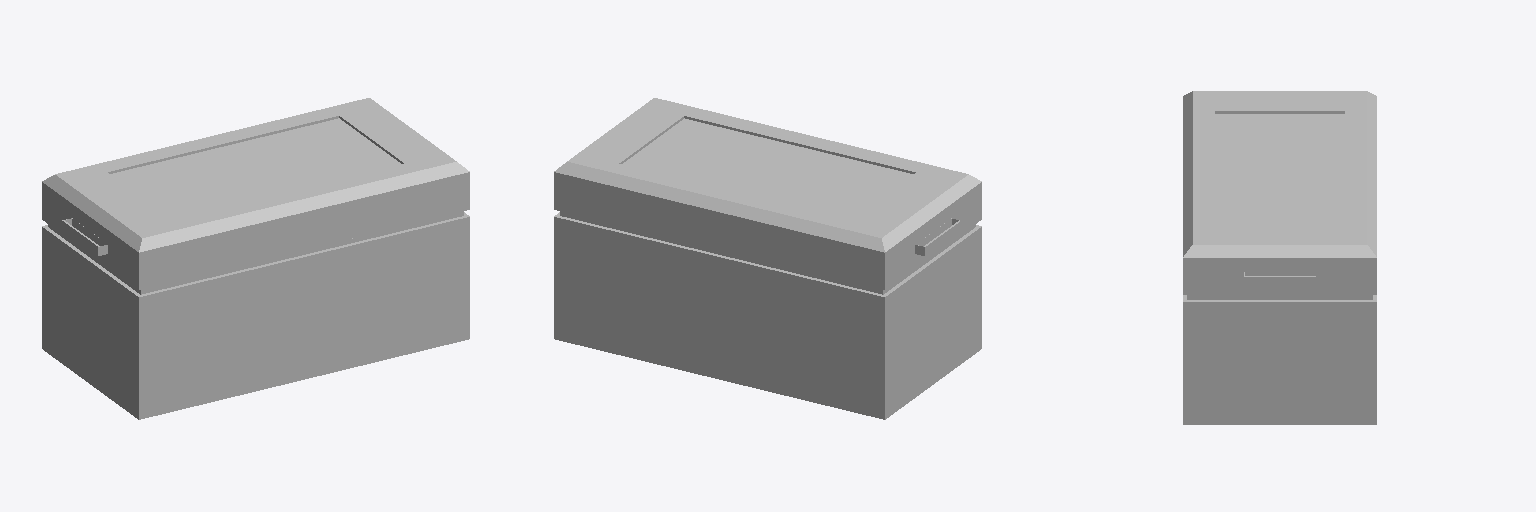
File: boxCrate1_global_sj.obj
The picture shows the model from 3 angles: view 1: azimuth 30°, elevation 25°; view 2: azimuth 150°, elevation 25°; view 3: azimuth 270°, elevation 25°; orthographic projection.
Parts seen in each view (by area): view 1: boxCrate1_geo; view 2: boxCrate1_geo; view 3: boxCrate1_geo.
Part boxes in pixels (left/top/right/bottom): boxCrate1_geo: left=42, top=98, right=469, bottom=419; boxCrate1_geo: left=554, top=98, right=981, bottom=419; boxCrate1_geo: left=1183, top=91, right=1376, bottom=424.
Size of the model in its own units: 35.64 by 17.09 by 17.09.